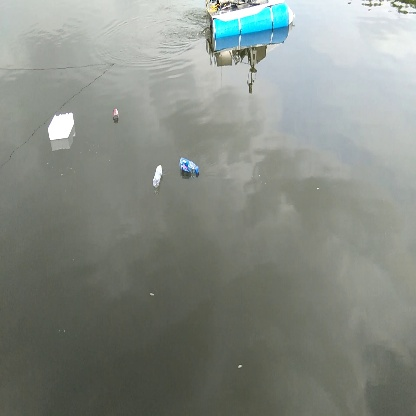bottle: (178, 156, 202, 181), (151, 161, 163, 188)
